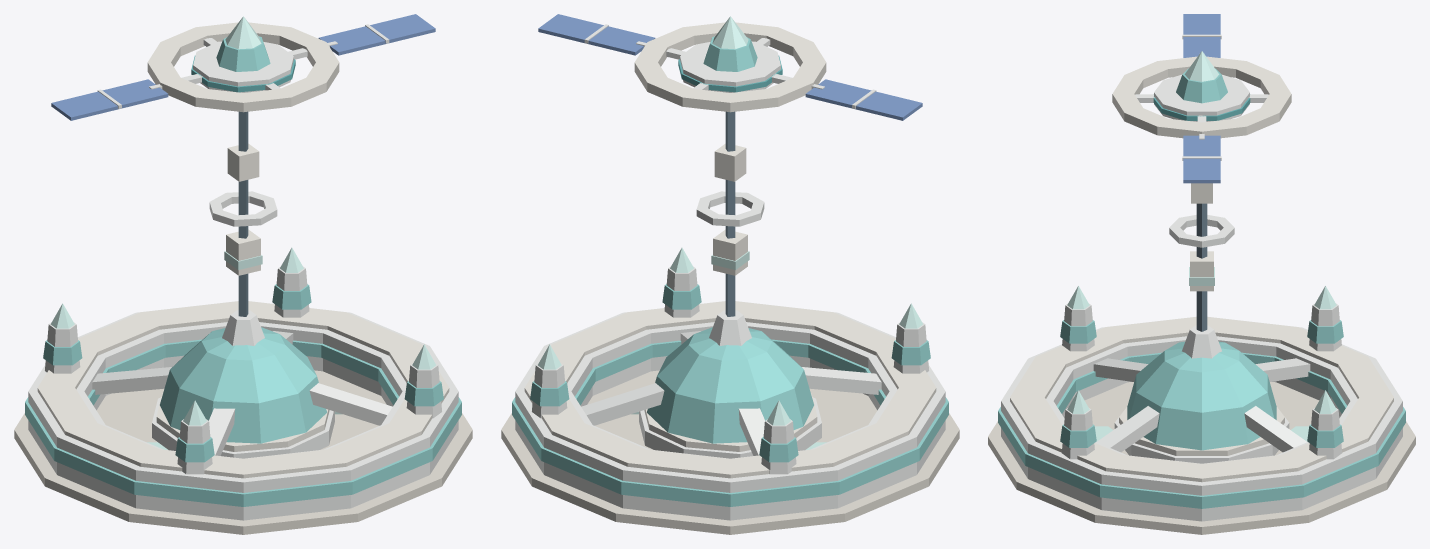
File: space_elevator.glb
3 renders of one model, left to right at view 1: azimuth 30°, elevation 25°; view 2: azimuth 150°, elevation 25°; view 3: azimuth 270°, elevation 25°, orthographic. The views are drawn at different scales.
Visible parts, largest first — view 1: wonder_space_elevator; view 2: wonder_space_elevator; view 3: wonder_space_elevator.
Boxes of the visible parts, x1,y1,x2,y2 form: wonder_space_elevator: (14,14,472,534); wonder_space_elevator: (501,14,959,534); wonder_space_elevator: (988,14,1415,534).
Size of the model in its own units: 0.98 by 0.995 by 0.98.
